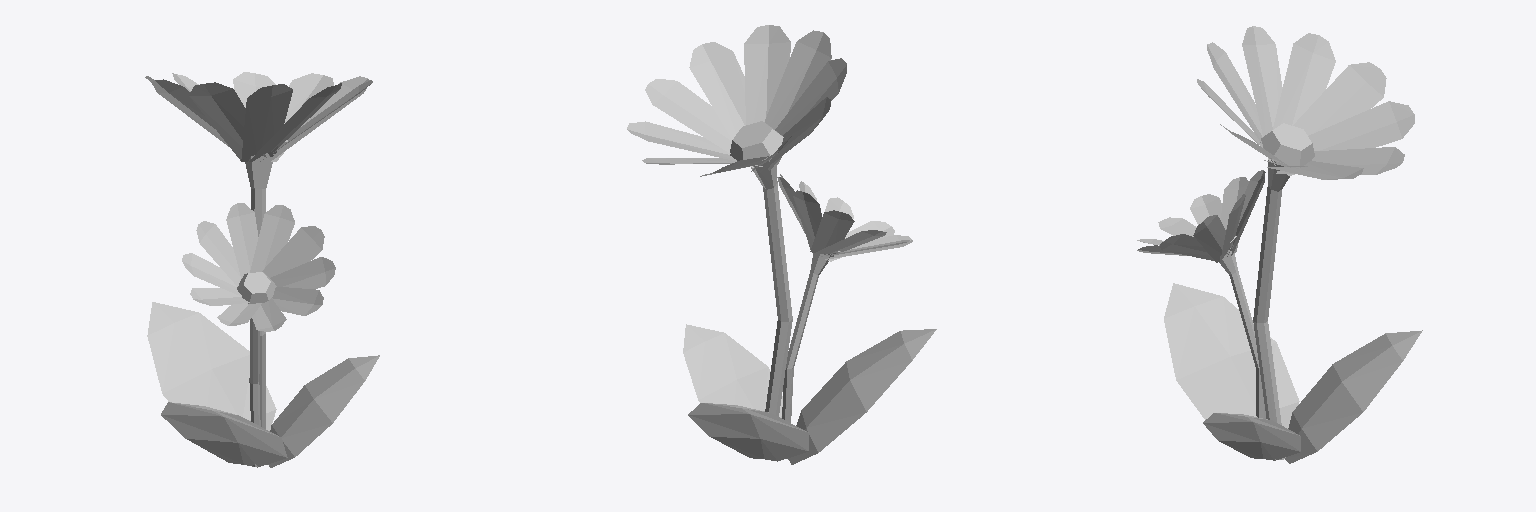
Rendered from flower_red.obj.
3 views of the same model, side by side, from view 1: azimuth 30°, elevation 25°; view 2: azimuth 150°, elevation 25°; view 3: azimuth 270°, elevation 25° (orthographic).
Visible parts, largest first — view 1: Flower.010_Base_Material; view 2: Flower.010_Base_Material; view 3: Flower.010_Base_Material.
Part boxes in pixels (left/top/right/bottom): Flower.010_Base_Material: left=145, top=72, right=379, bottom=467; Flower.010_Base_Material: left=627, top=25, right=936, bottom=464; Flower.010_Base_Material: left=1137, top=26, right=1422, bottom=463.
Bounding box in the file's own units: 1.47 × 2.45 × 1.57.